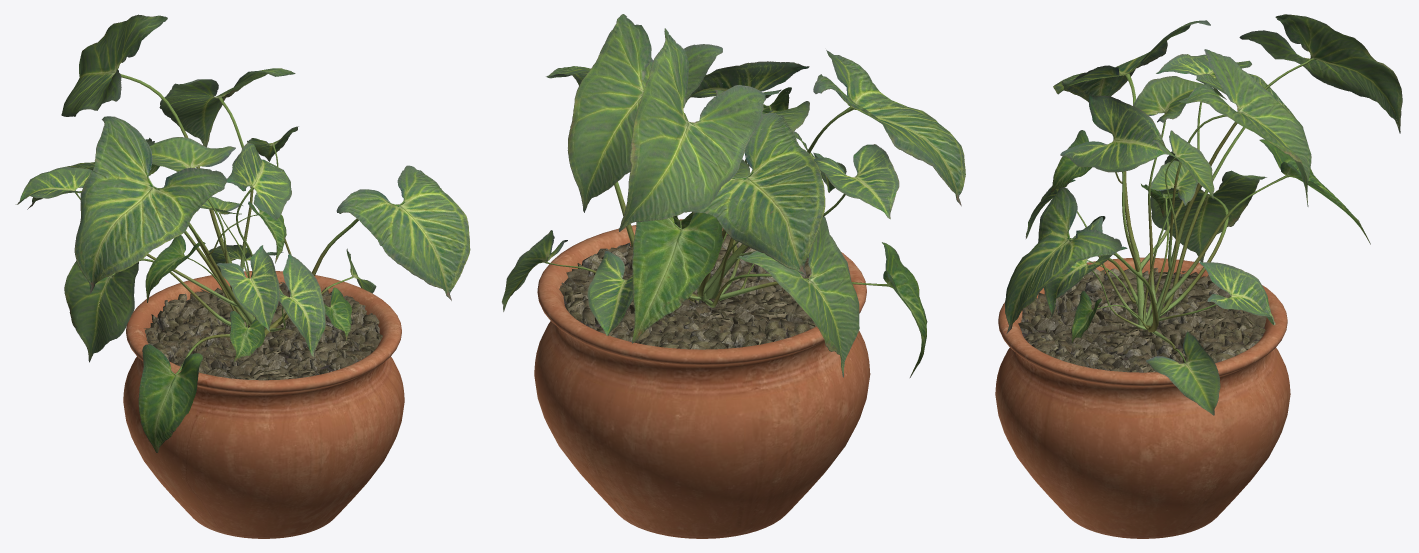
File: potted_plant_02.glb
3 renders of one model, left to right at view 1: azimuth 30°, elevation 25°; view 2: azimuth 150°, elevation 25°; view 3: azimuth 270°, elevation 25°, orthographic. The views are drawn at different scales.
Visible parts, largest first — view 1: potted_plant_02_leaves, potted_plant_02_pot, potted_plant_02_dirt; view 2: potted_plant_02_leaves, potted_plant_02_pot, potted_plant_02_dirt; view 3: potted_plant_02_leaves, potted_plant_02_pot, potted_plant_02_dirt.
Part boxes in pixels (<box>): potted_plant_02_leaves: <box>15,14,470,452</box>; potted_plant_02_pot: <box>123,271,404,538</box>; potted_plant_02_dirt: <box>144,282,382,380</box>; potted_plant_02_leaves: <box>502,14,965,377</box>; potted_plant_02_pot: <box>534,219,870,538</box>; potted_plant_02_dirt: <box>559,234,816,349</box>; potted_plant_02_leaves: <box>1005,14,1402,415</box>; potted_plant_02_pot: <box>995,257,1290,538</box>; potted_plant_02_dirt: <box>1018,268,1266,372</box>.
Bounding box in the file's own units: 0.7012 × 0.8412 × 0.6574.
2 materials, 2 textured.
